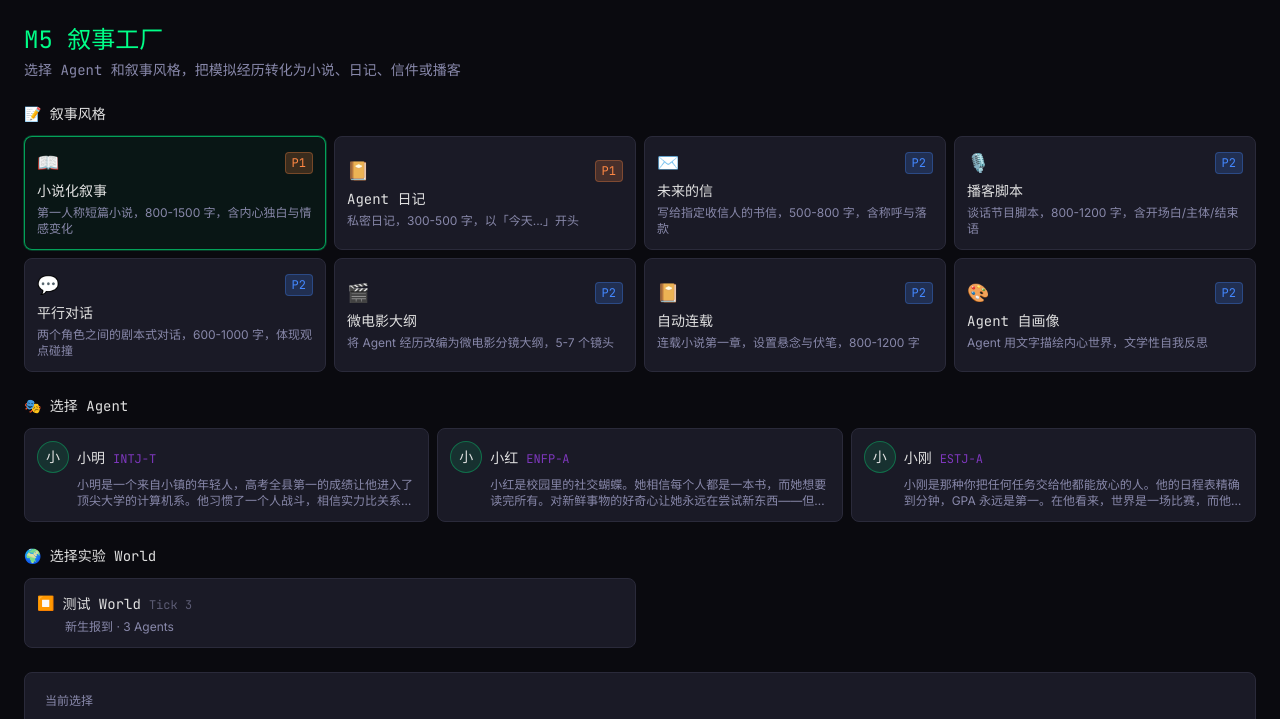
Step 34a NarrativeFactory — generating & result phases › generates narrative (story via API) and shows result
This screenshot has width=1280, height=719.
Click the button "小明" at (227, 475), box x1=24 y1=428 x2=429 y2=522
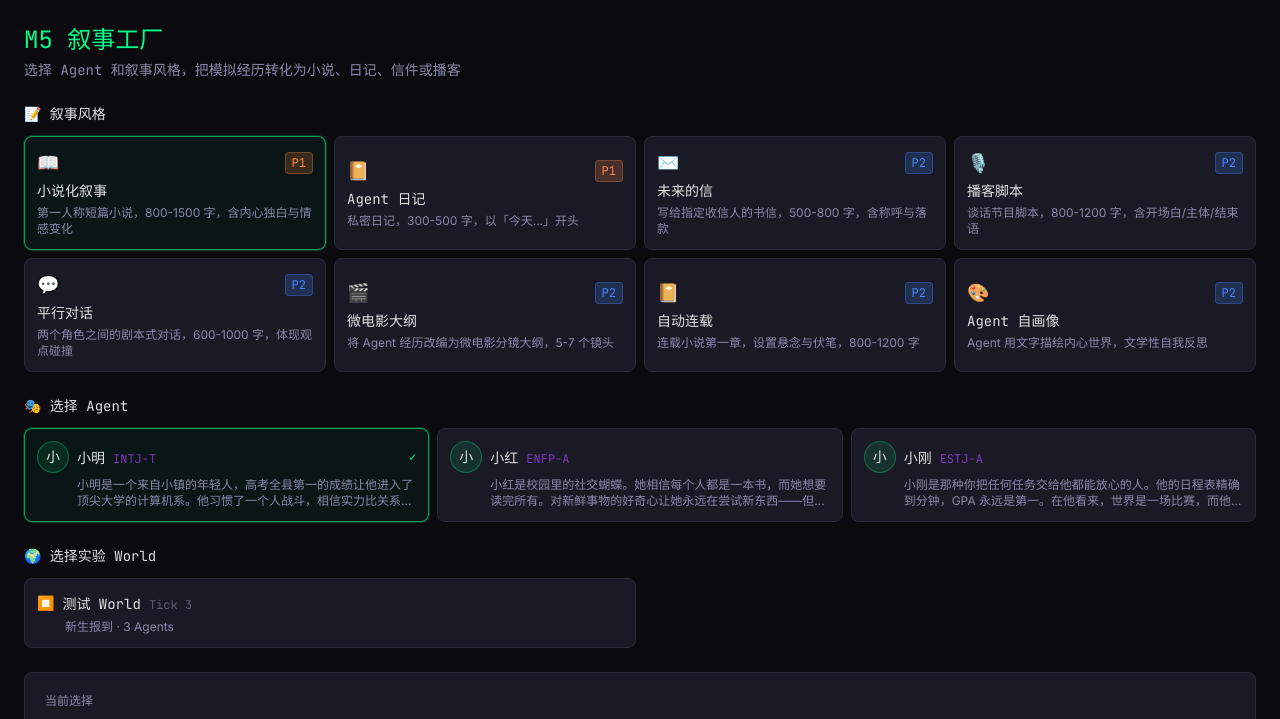
Click the button "测试 World" at (102, 604), box x1=24 y1=578 x2=636 y2=648
(page scrolled)
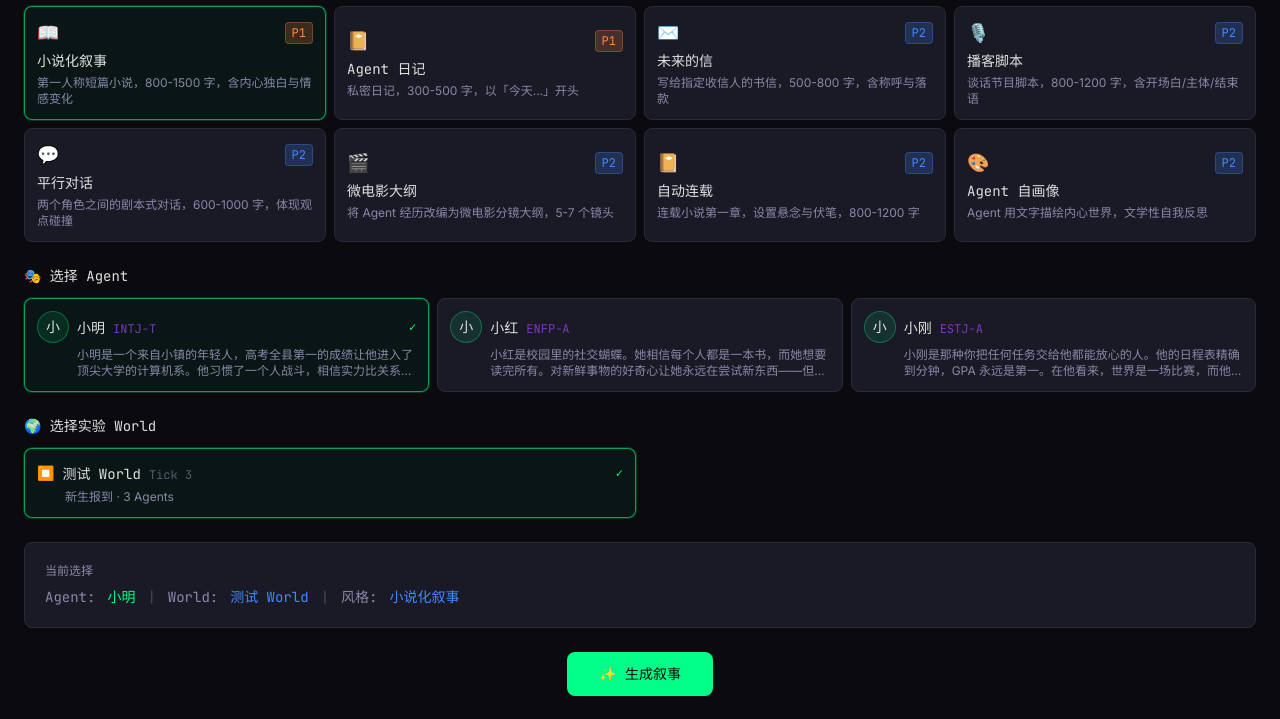
Click the button "✨ 生成叙事" at (640, 674), box x1=567 y1=652 x2=713 y2=696
(page scrolled)
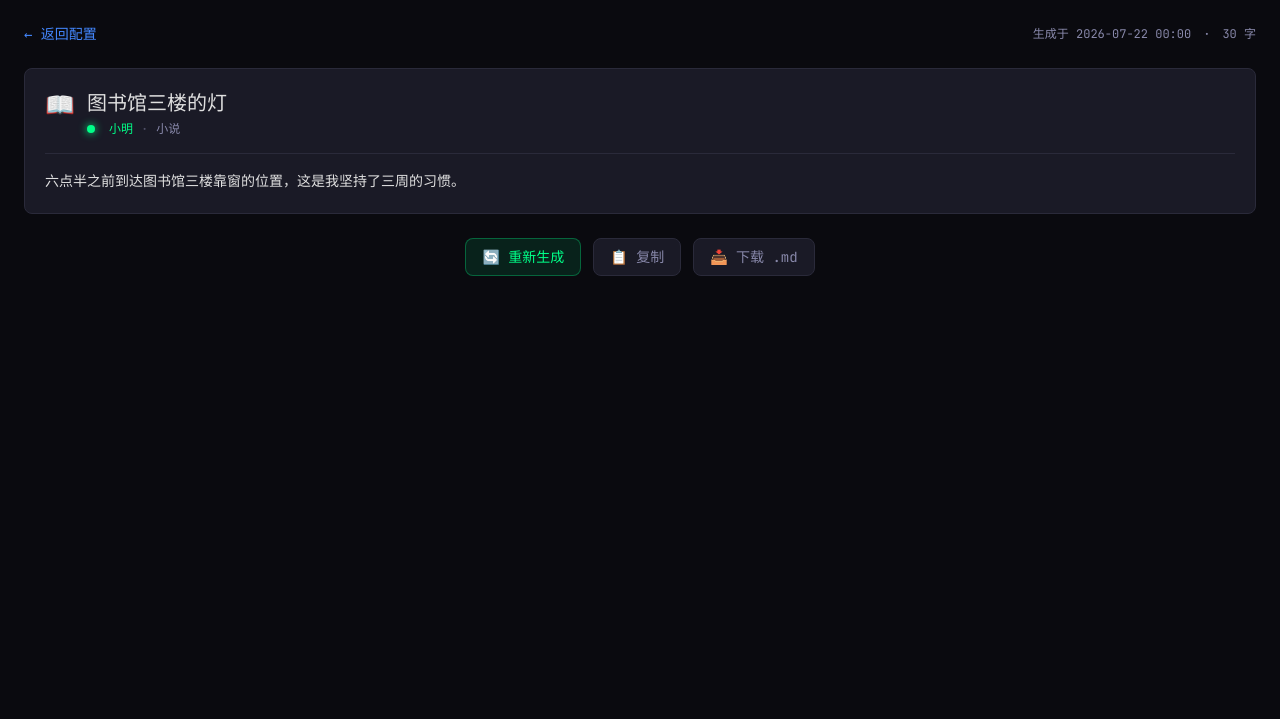
Expected: the heading "图书馆三楼的灯" is shown, x1=87 y1=90 x2=227 y2=116
Expected: the button "🔄 重新生成" is shown, x1=465 y1=238 x2=581 y2=276
